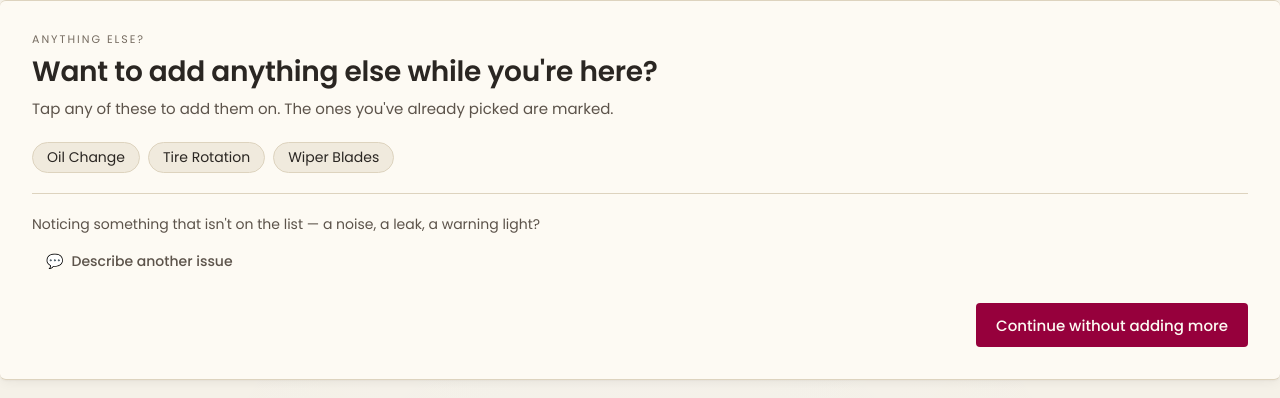
Test: <SecondRoutinePassCard /> — describe-another-issue path (EH2) › spins ONLY the describe control while its submit is in flight (discrimination)
Click the button "💬 Describe another issue". click: (139, 261)
box: [32,243,247,279]
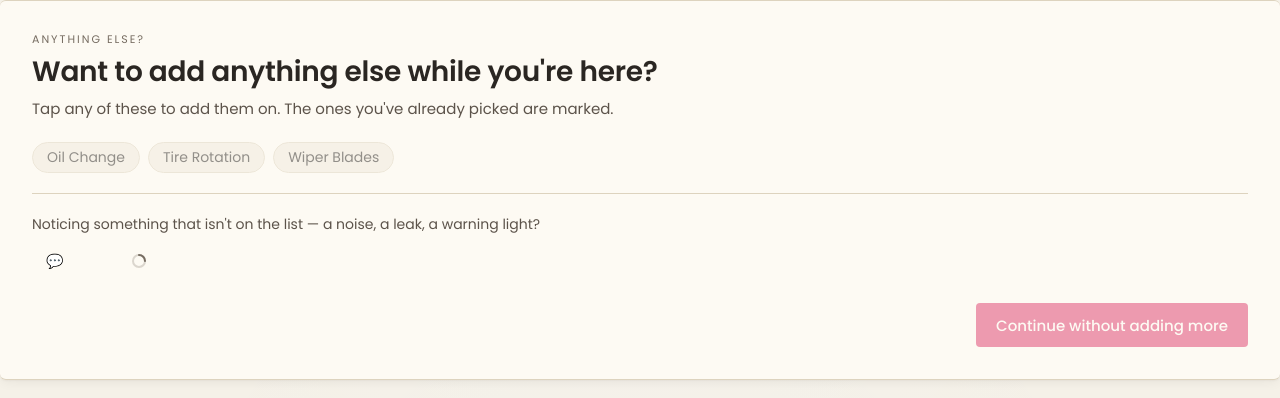
Expected: the button named "describe another issue" is disabled, [32,243,247,279]
Expected: the button "Continue without adding more" is disabled, [976,303,1248,347]
